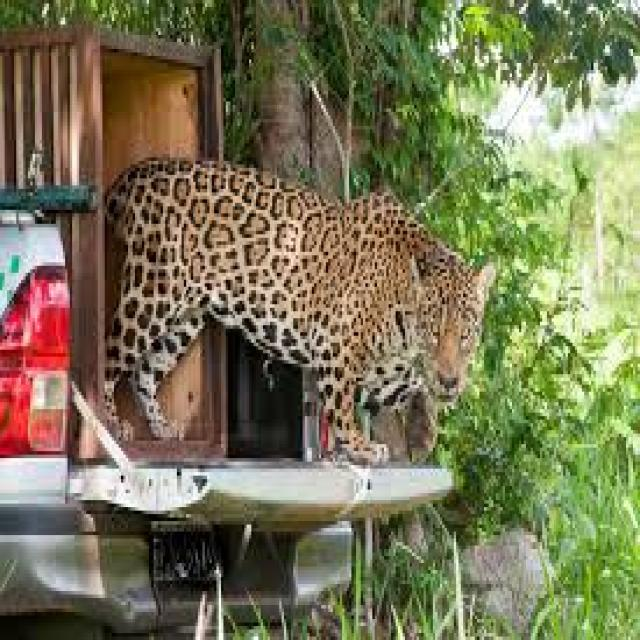Jaguar: (95, 150, 496, 458)
